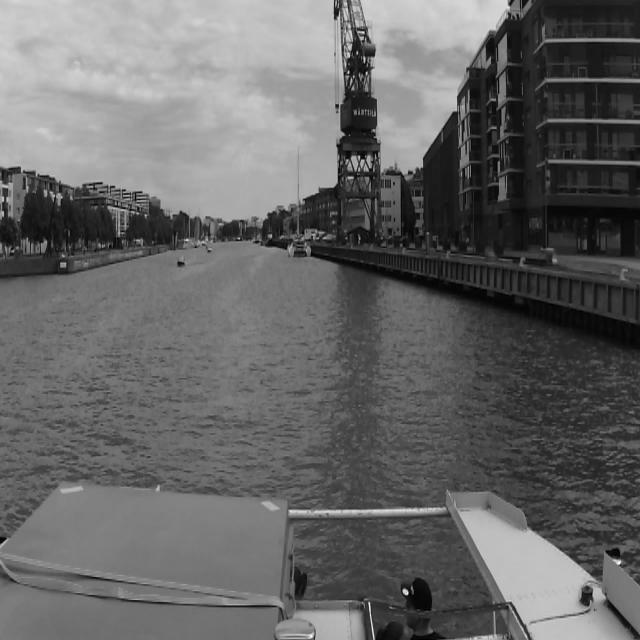ship: (288, 142, 311, 257), (184, 210, 196, 249), (177, 256, 185, 268), (208, 246, 212, 252)
